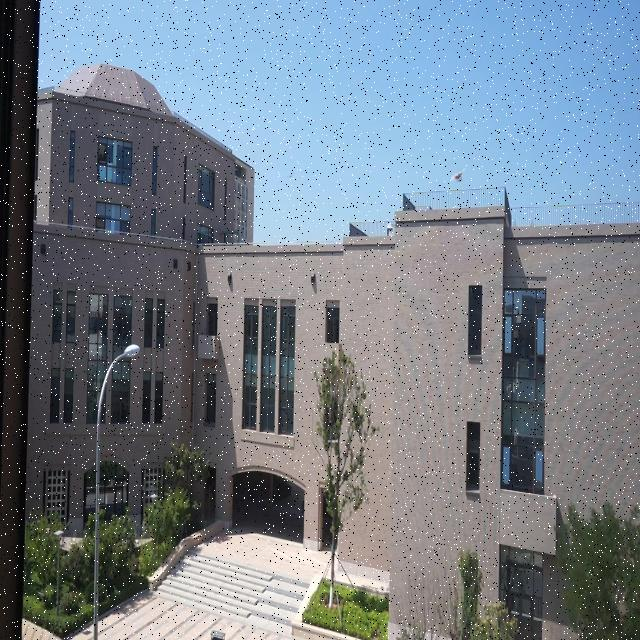UAV: (451, 166, 465, 185)
